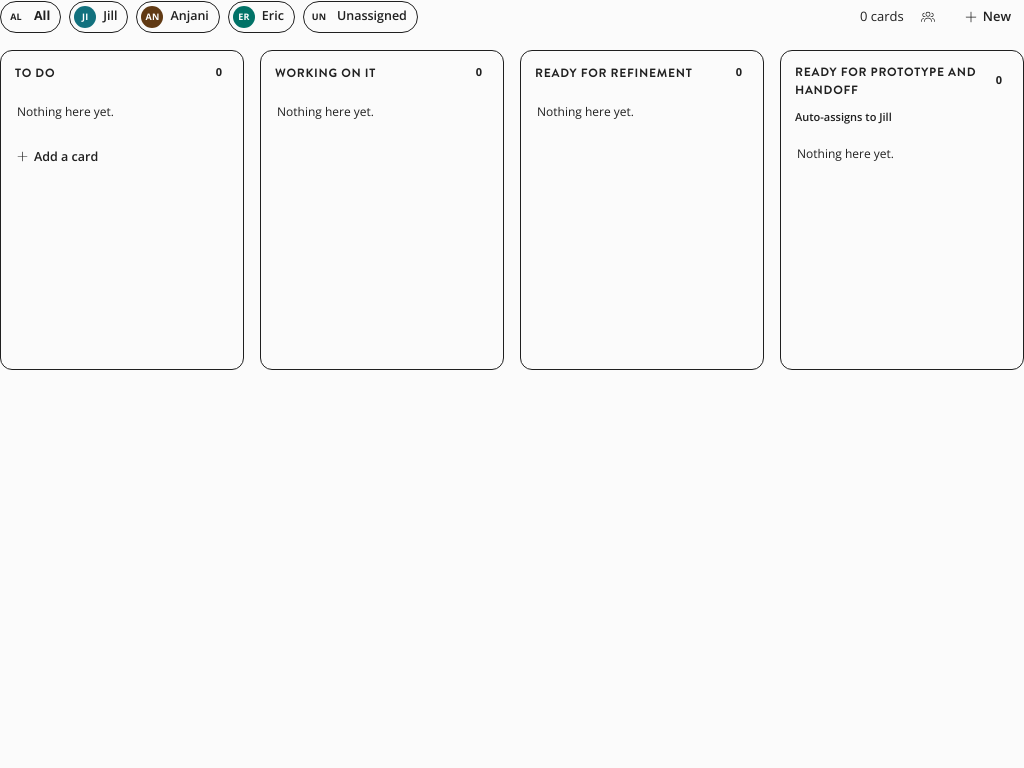
Test: TodoBoardPanel › refuses a card with no name, without asking the network
Expected: the element labelled "To Do" is shown, [0, 50, 244, 370]
Click the button with aria-label "New card" at coordinates (988, 17), box [952, 0, 1023, 34]
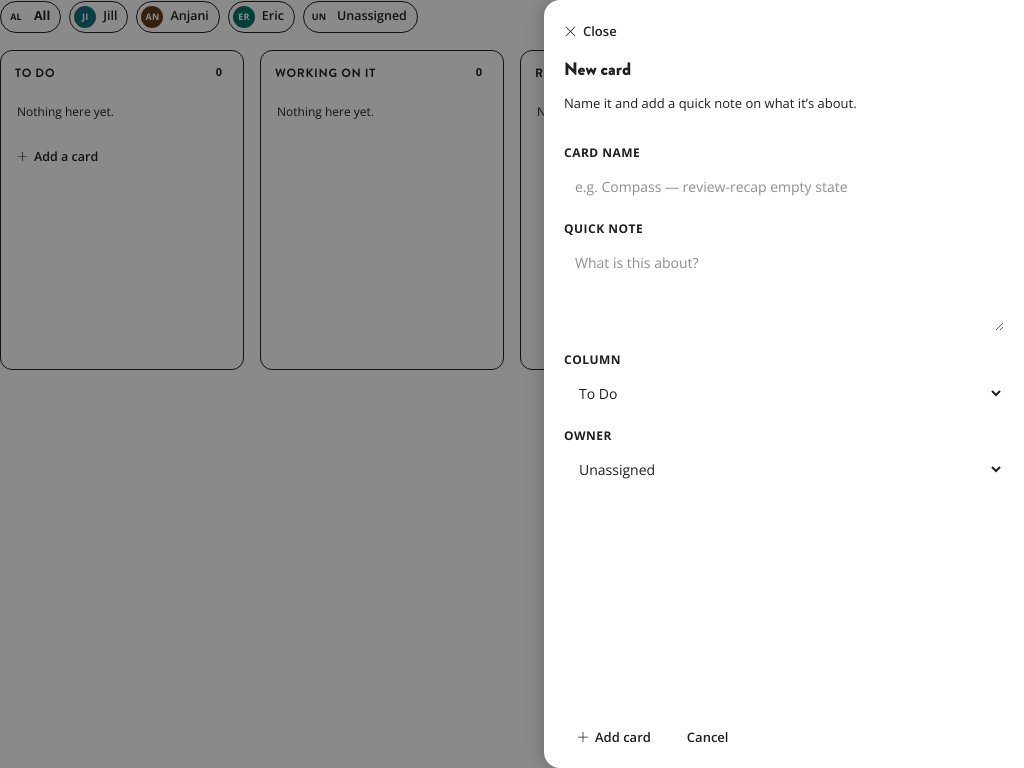
Click the button "Add card" at coordinates (614, 737), box [564, 720, 664, 754]
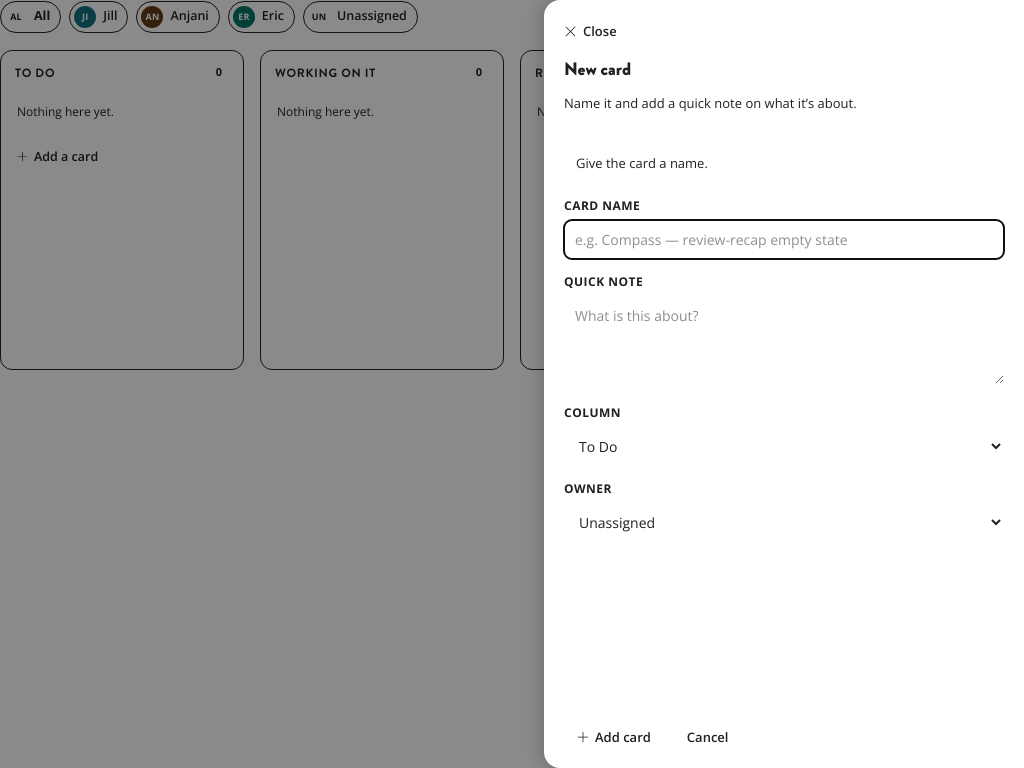
Expected: the message shows "Give the card a name", [576, 154, 708, 172]
